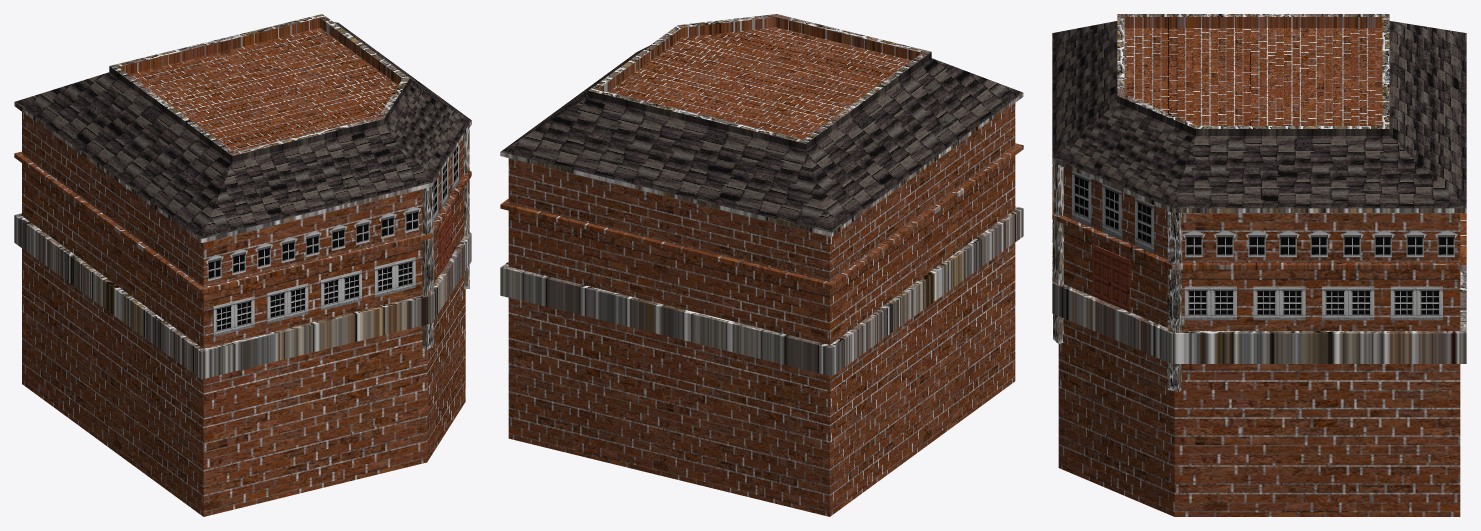
File: union_market.dae
3 views of the same model, side by side, from view 1: azimuth 30°, elevation 25°; view 2: azimuth 150°, elevation 25°; view 3: azimuth 270°, elevation 25° (orthographic). The views are drawn at different scales.
Parts seen in each view (by area): view 1: USAMarket; view 2: USAMarket; view 3: USAMarket.
Boxes of the visible parts, x1=… form: USAMarket: x1=14, y1=14, x2=471, y2=516; USAMarket: x1=500, y1=14, x2=1023, y2=516; USAMarket: x1=1052, y1=14, x2=1466, y2=516.
Size of the model in its own units: 34.96 by 34.96 by 33.79.
